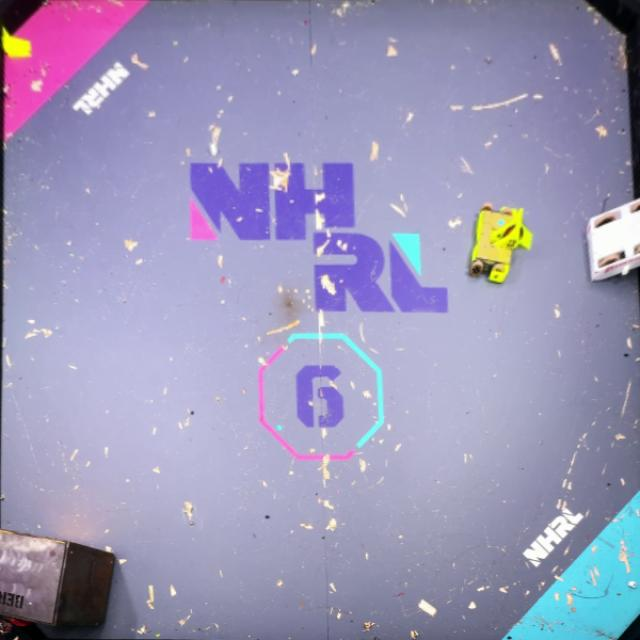housebot: (0, 529, 115, 634)
robot: (468, 201, 532, 283), (585, 196, 640, 282)
